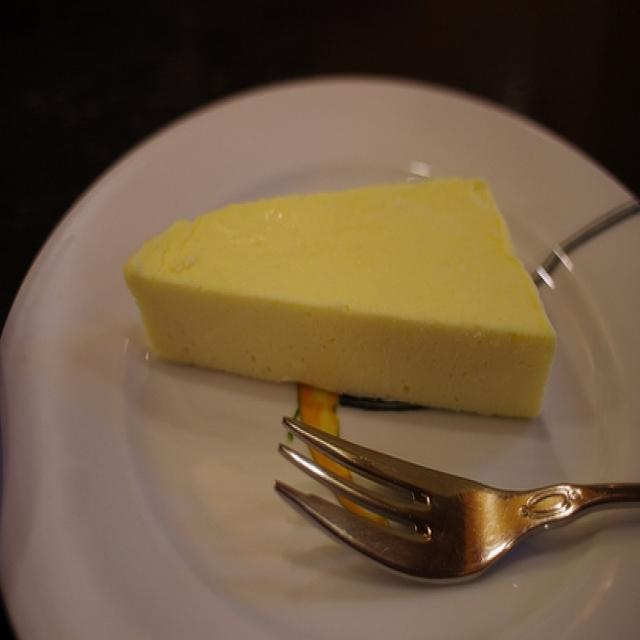Rare cheese cake: (104, 140, 608, 534)
